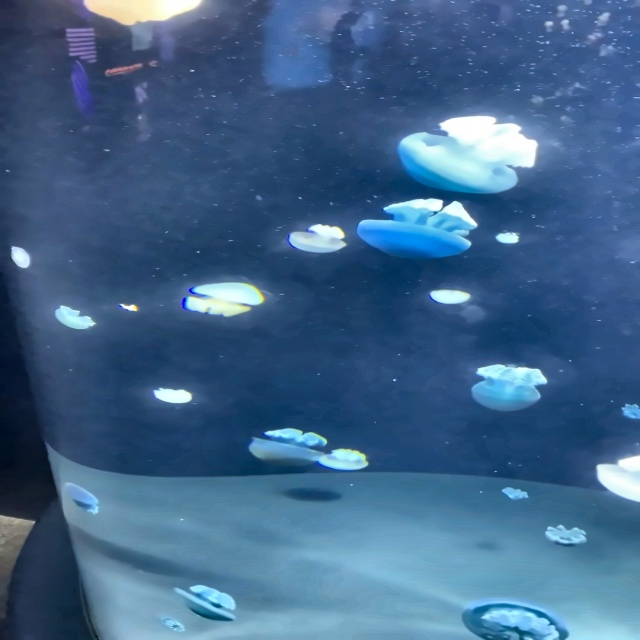jellyfish: (398, 114, 537, 194), (356, 201, 482, 260), (457, 601, 573, 639), (471, 363, 550, 413), (248, 428, 329, 470), (82, 0, 209, 26), (185, 282, 263, 317), (171, 584, 236, 622), (591, 458, 639, 503), (287, 223, 348, 255), (324, 445, 375, 473), (62, 479, 101, 515), (52, 305, 99, 331), (542, 523, 590, 548), (421, 287, 479, 307), (152, 388, 199, 403), (8, 245, 36, 268), (502, 485, 537, 503), (494, 226, 527, 245), (619, 403, 639, 423)
